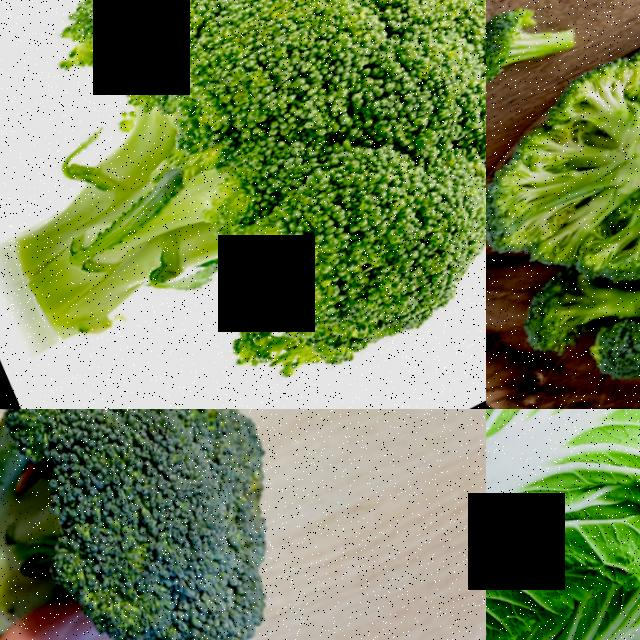broccoli: (0, 0, 486, 409), (0, 409, 353, 640), (486, 0, 640, 312), (495, 253, 640, 379), (486, 0, 610, 124)
cabbage: (486, 409, 640, 640)
